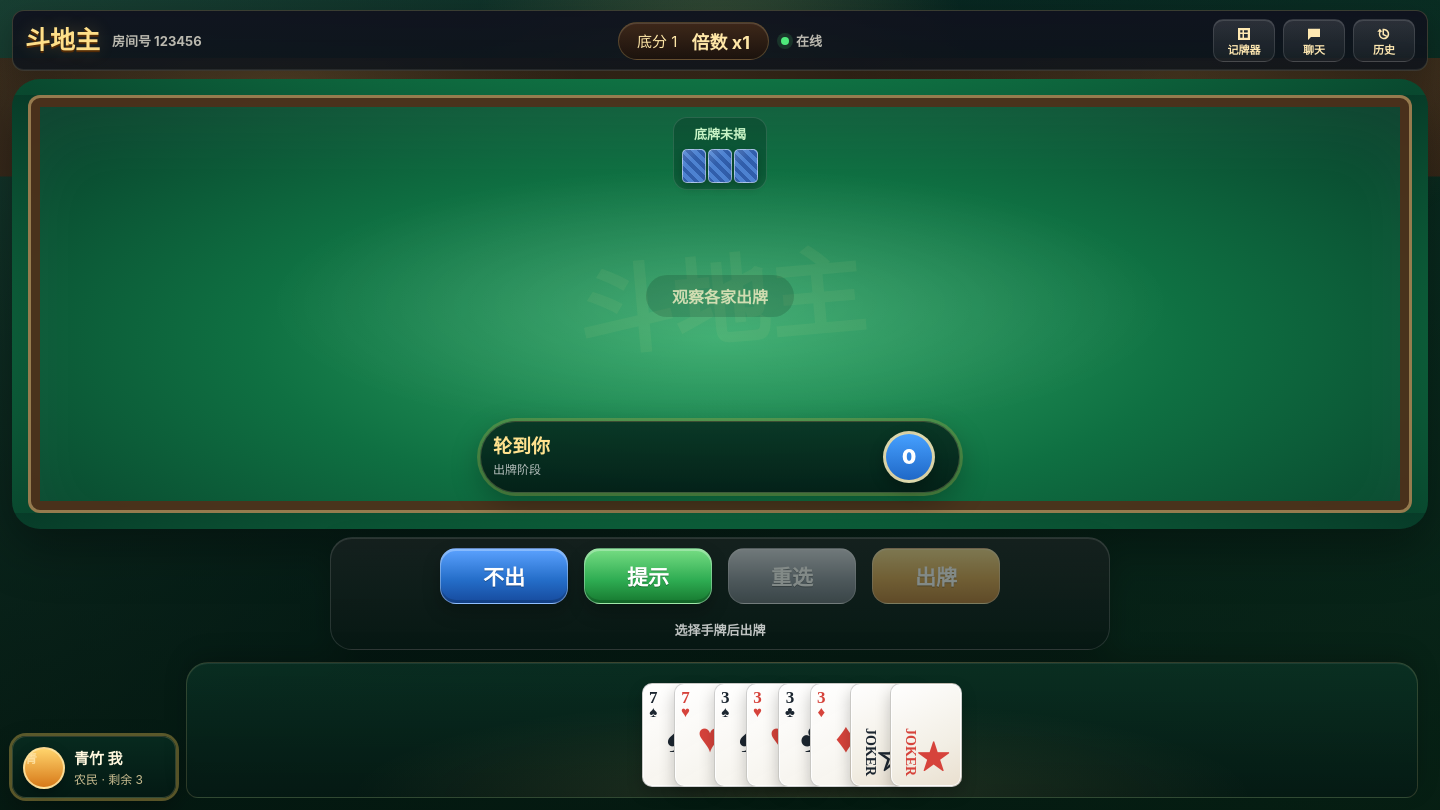
GameTable rule-gated actions › uses the smallest legal same-type hint before bomb and rocket fallbacks
This screenshot has width=1440, height=810.
What coordinates should you click on to do the following:
click the button "提示"
I would click on:
 (648, 576)
Its box is [584,548,712,604].
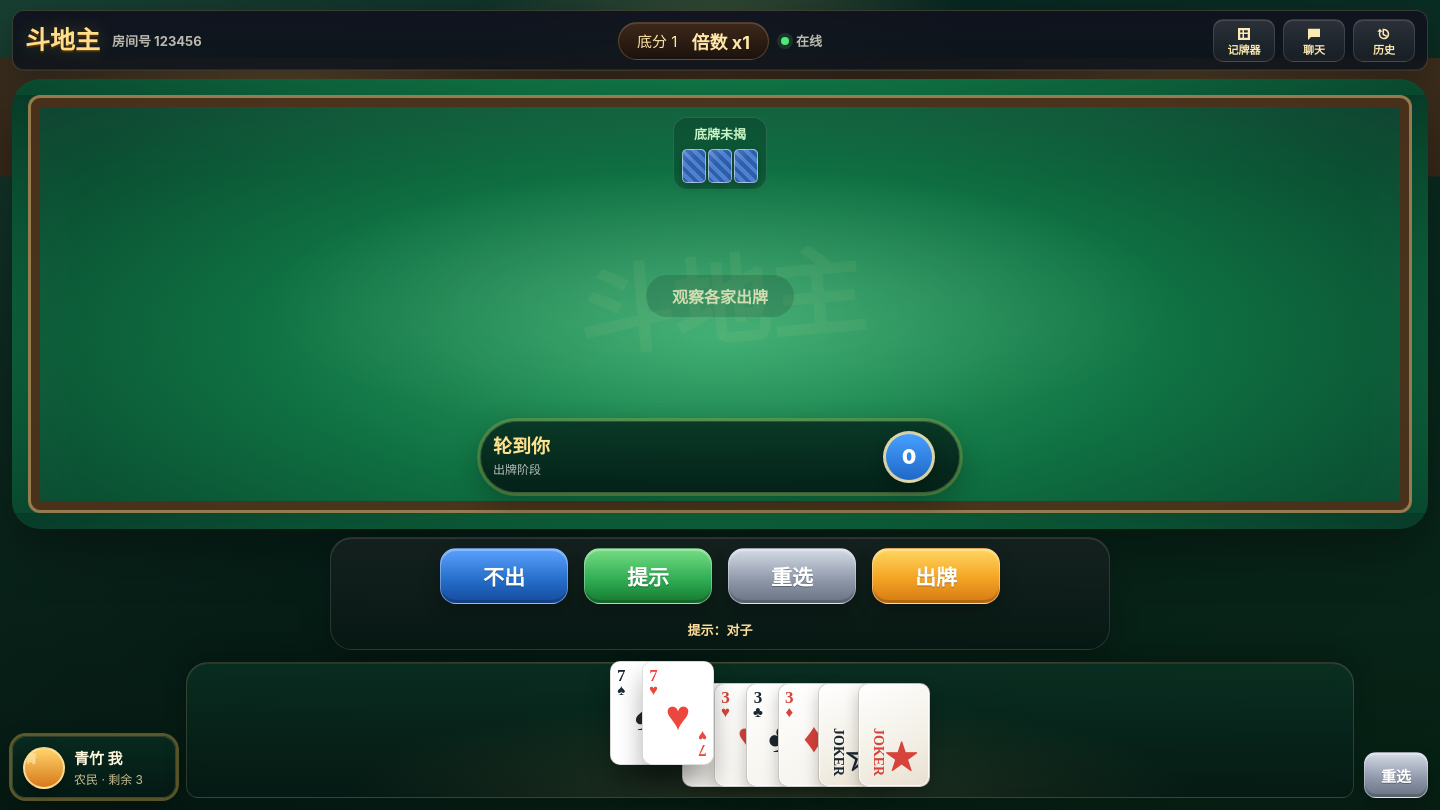
expect the text "提示：对子" is shown: met, box [688,622,752,638]
